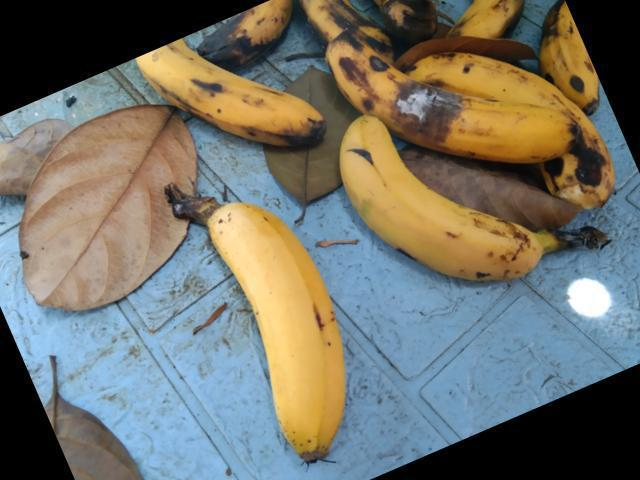freshripe: (182, 190, 375, 479)
ripe: (332, 131, 585, 290), (105, 46, 319, 156)
rotten: (326, 23, 593, 166)
